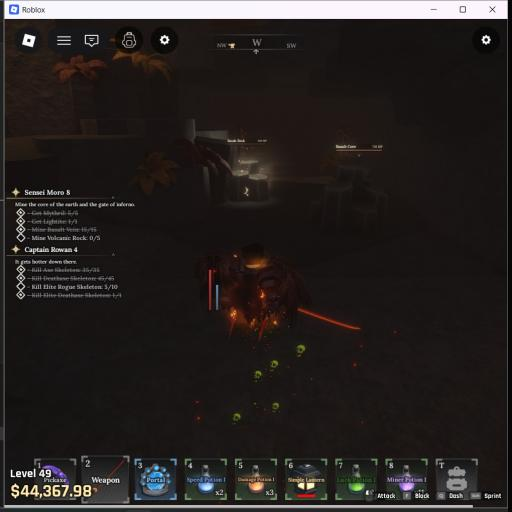player: (211, 244, 311, 337), (195, 256, 214, 301)
rock: (310, 166, 387, 234), (230, 160, 268, 201), (337, 166, 349, 181)
